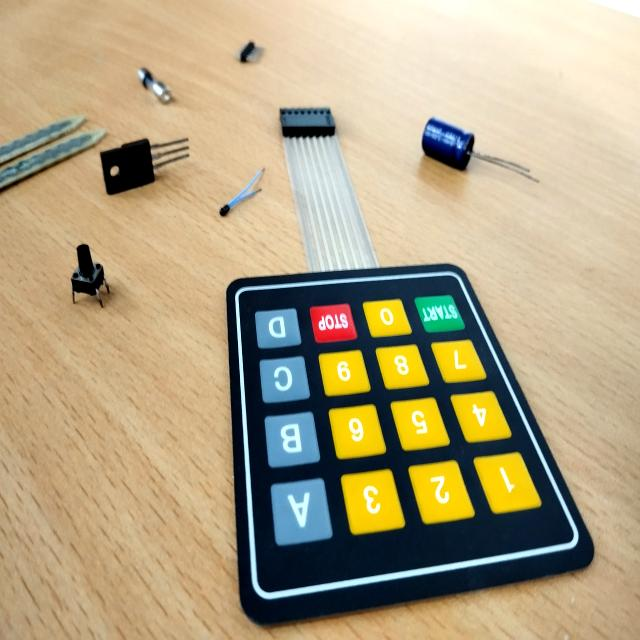capacitor: (418, 119, 479, 199)
